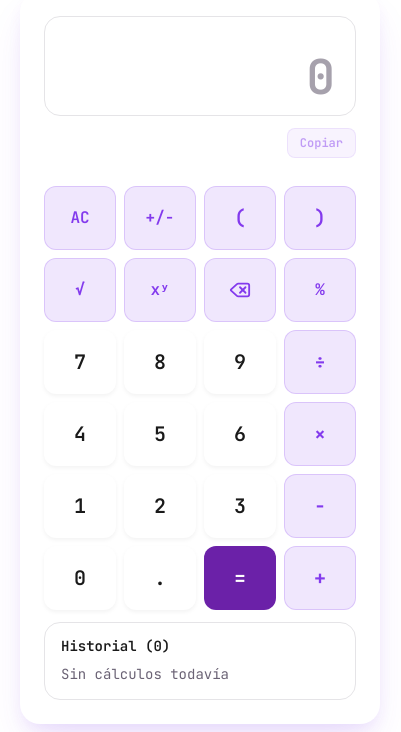
Test case: App › muestra el error de dominio del backend
What coordinates should you click on to do the following:
click the button "5"
I would click on:
 (160, 434)
Its box is [124,402,196,466].
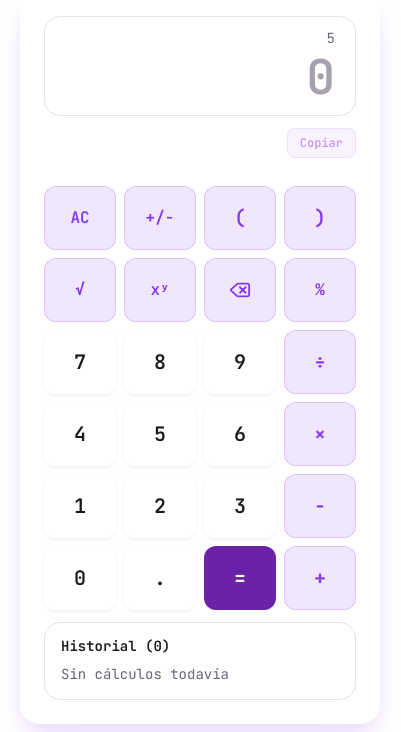
What coordinates should you click on to do the following:
click the button "÷"
I would click on:
 (320, 362)
Its box is [284,330,356,394].
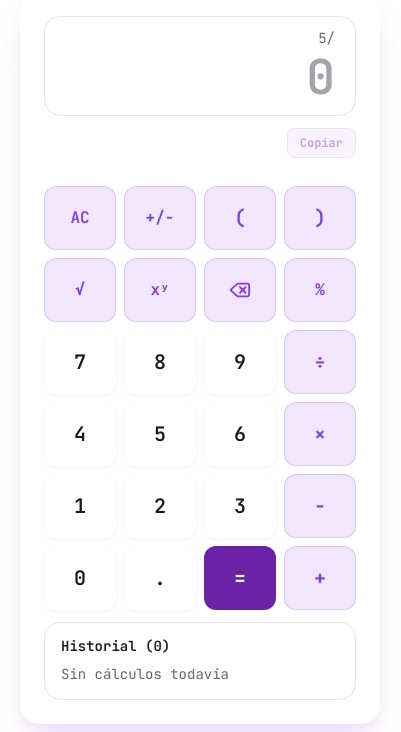
What coordinates should you click on to do the following:
click the button "0"
I would click on:
 (80, 578)
Its box is [44,546,116,610].
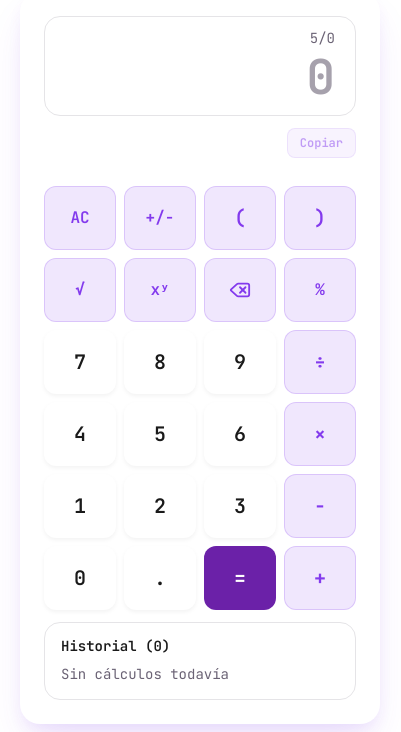
What coordinates should you click on to do the following:
click the button "="
I would click on:
 (240, 578)
Its box is [204,546,276,610].
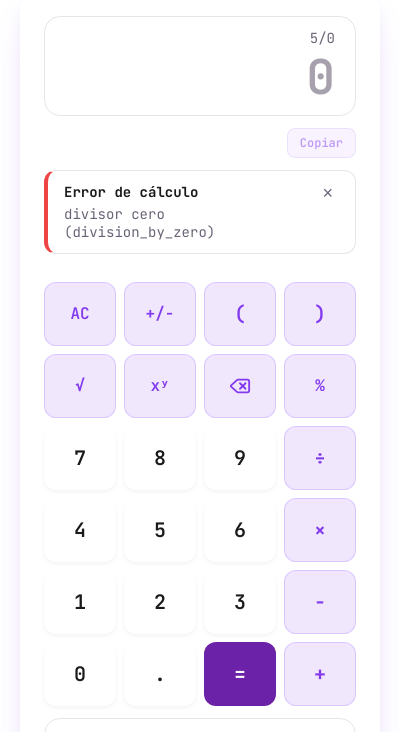
Expected: the message shows "division_by_zero", [64,205,215,241]
